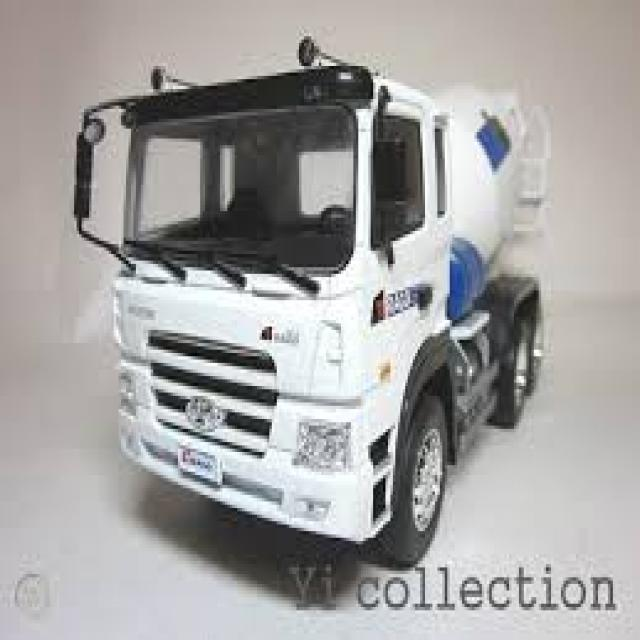Mixer Truck: (72, 37, 553, 566)
